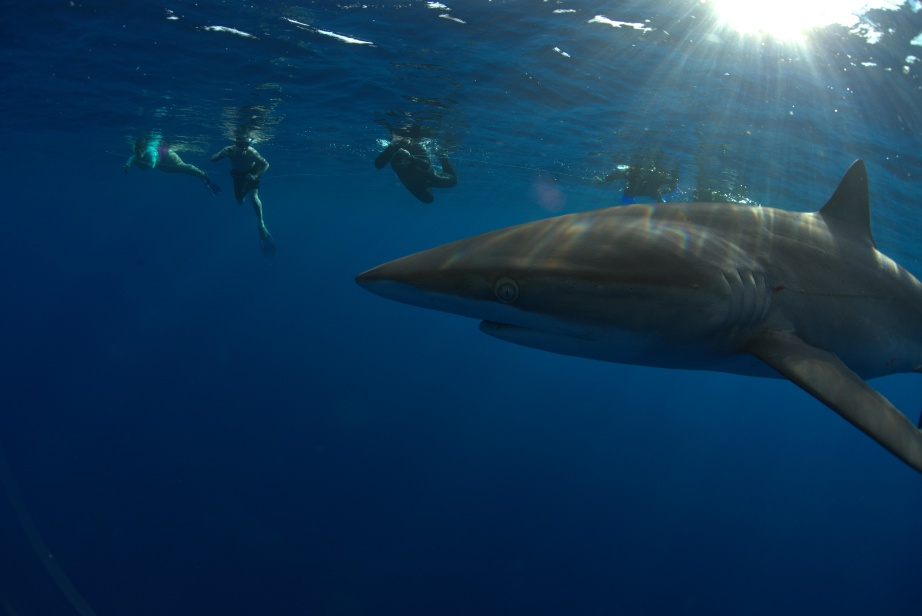Sedoso: (325, 147, 922, 476)
